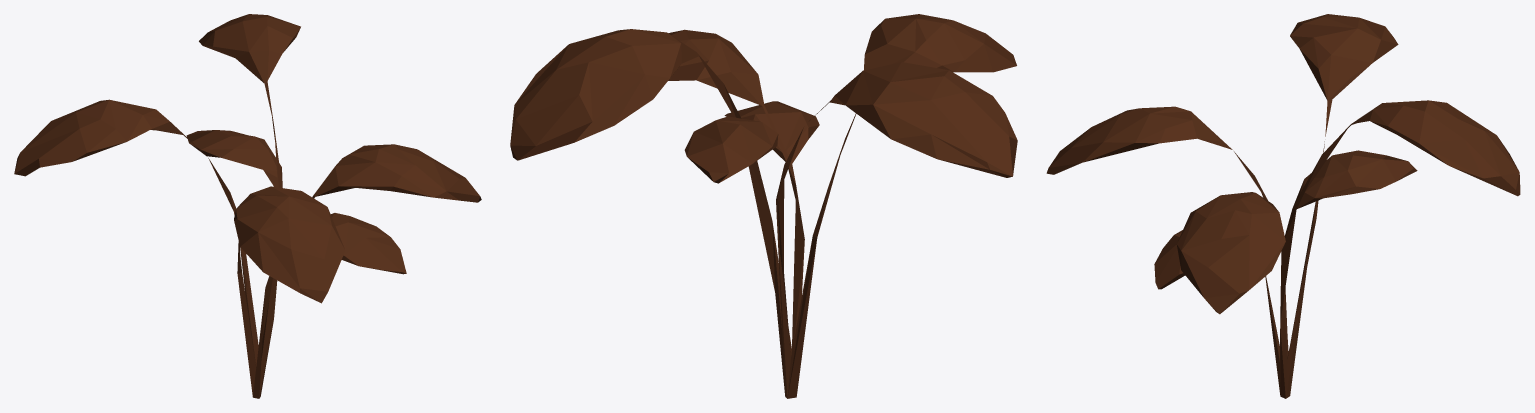
The model's file is ShrubLeavesLarge04.fbx.
The picture shows the model from 3 angles, left to right: view 1: azimuth 30°, elevation 25°; view 2: azimuth 150°, elevation 25°; view 3: azimuth 270°, elevation 25°; orthographic projection. The views are drawn at different scales.
Parts seen in each view (by area): view 1: ShrubLeavesLarge04; view 2: ShrubLeavesLarge04; view 3: ShrubLeavesLarge04.
Part boxes in pixels (<box>): ShrubLeavesLarge04: <box>14,14,481,398</box>; ShrubLeavesLarge04: <box>510,14,1017,398</box>; ShrubLeavesLarge04: <box>1046,14,1520,398</box>.
Size of the model in its own units: 138 by 103 by 136.
